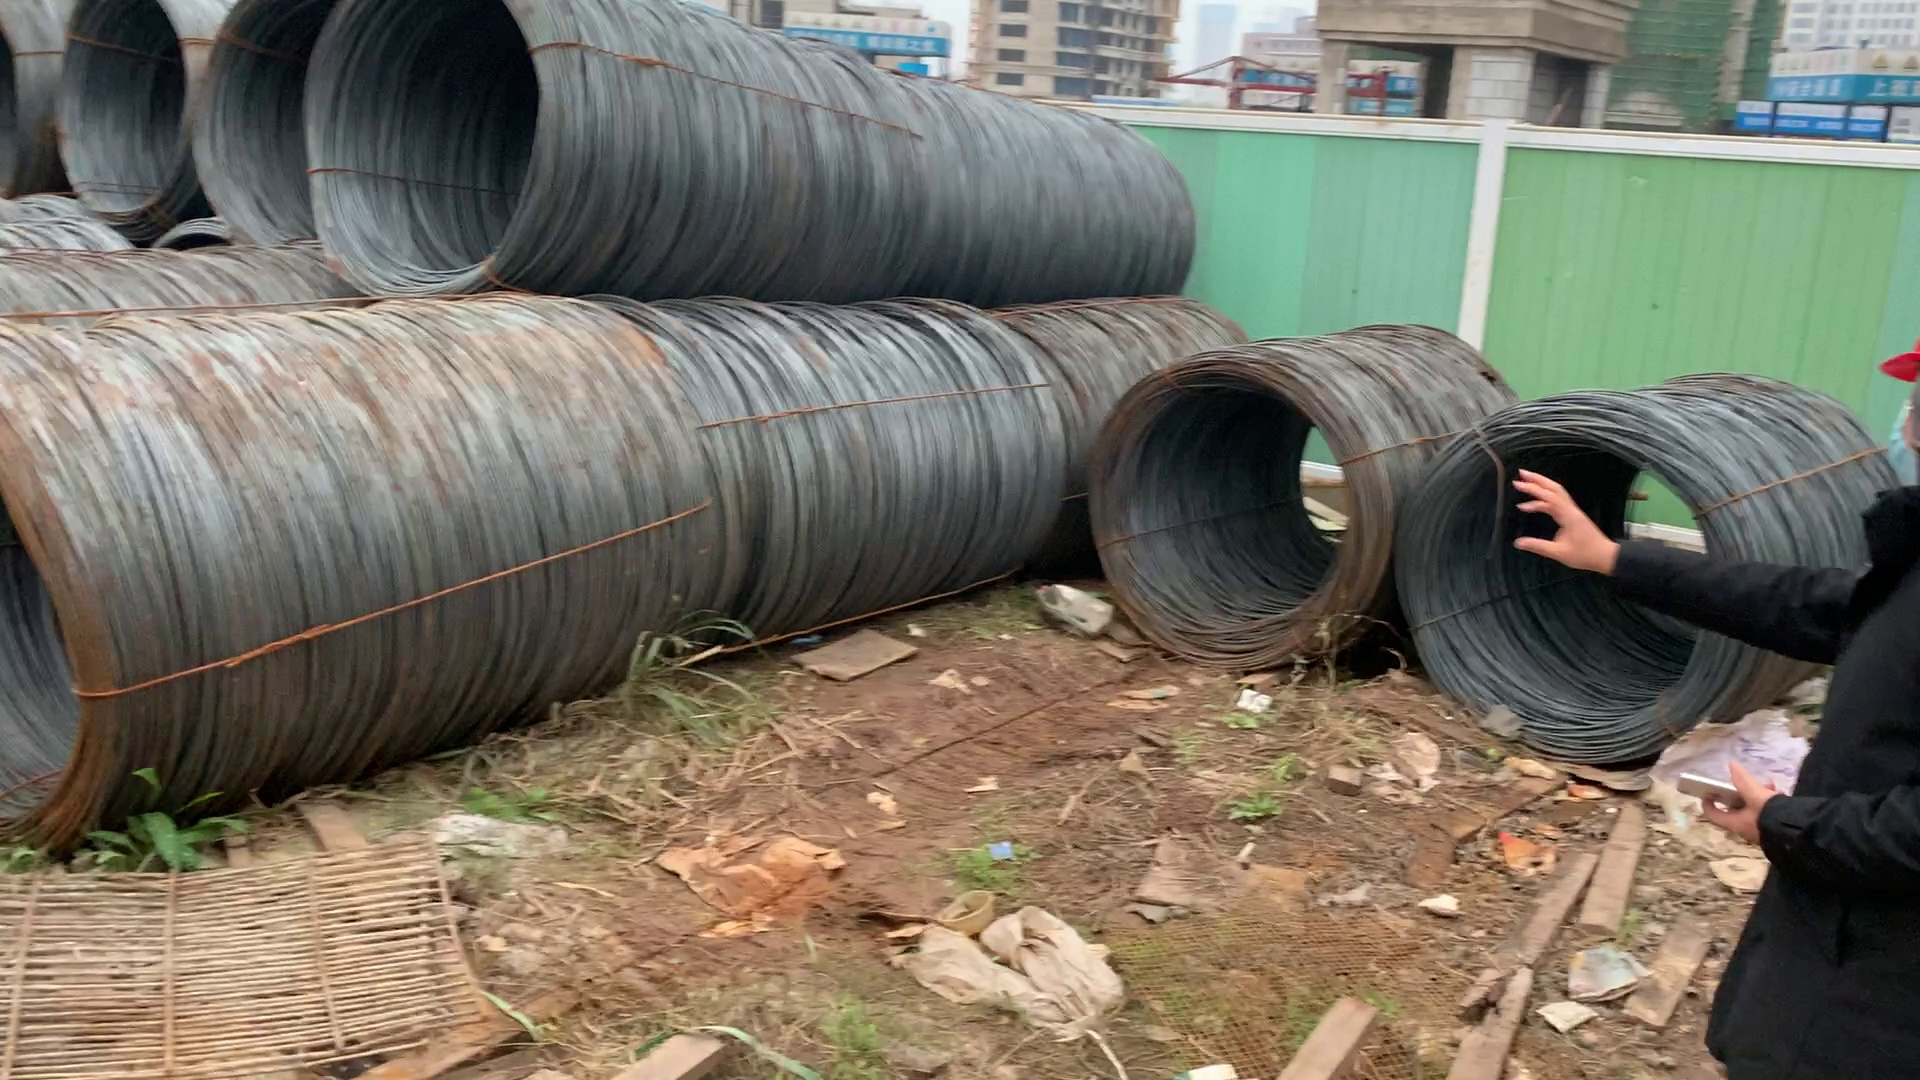coil: (1418, 413, 1749, 779), (1088, 357, 1393, 674), (309, 1, 564, 287), (1, 382, 127, 882), (187, 1, 343, 257), (55, 1, 196, 229), (1, 20, 51, 202)
